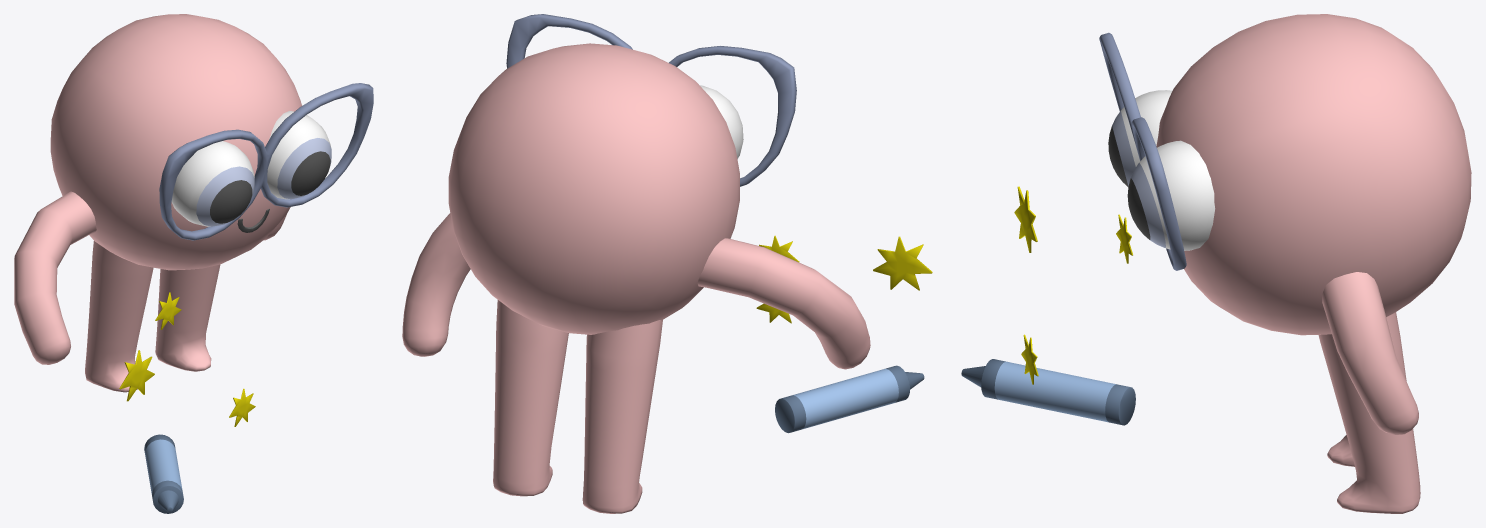
3 views of the same model, side by side, from view 1: azimuth 30°, elevation 25°; view 2: azimuth 150°, elevation 25°; view 3: azimuth 270°, elevation 25° (orthographic). The views are drawn at different scales.
Parts seen in each view (by area): view 1: pCube4, orangeLegs, r arm, pCylinder3, eyes-whiteMTL, eyes-blackMTL, eyes-blueMTL, crayon-Blue.1 (×2), star.1, star, star.2; view 2: pCube4, orangeLegs, r arm, l arm, pCylinder3, crayon-Blue.1 (×2), star.1, eyes-whiteMTL; view 3: pCube4, orangeLegs, l arm, crayon-Blue.1 (×2), eyes-whiteMTL, pCylinder3, eyes-blueMTL, eyes-blackMTL, star.1.
Boxes of the visible parts, bbox=[...] form: pCube4: bbox=[50, 14, 301, 270]; orangeLegs: bbox=[85, 241, 220, 392]; r arm: bbox=[14, 191, 96, 364]; pCylinder3: bbox=[159, 83, 373, 240]; eyes-whiteMTL: bbox=[171, 111, 331, 226]; eyes-blackMTL: bbox=[210, 151, 330, 223]; eyes-blueMTL: bbox=[196, 138, 331, 226]; crayon-Blue.1 (×2): bbox=[144, 434, 183, 513]; star.1: bbox=[119, 350, 154, 401]; star: bbox=[229, 388, 255, 426]; star.2: bbox=[155, 292, 181, 329]; pCube4: bbox=[448, 43, 739, 334]; orangeLegs: bbox=[493, 300, 662, 513]; r arm: bbox=[697, 238, 870, 369]; l arm: bbox=[402, 213, 470, 356]; pCylinder3: bbox=[506, 14, 796, 186]; crayon-Blue.1 (×2): bbox=[775, 365, 924, 433]; star.1: bbox=[873, 236, 932, 290]; eyes-whiteMTL: bbox=[700, 85, 743, 158]; pCube4: bbox=[1156, 14, 1471, 335]; orangeLegs: bbox=[1318, 312, 1420, 513]; l arm: bbox=[1322, 272, 1418, 434]; crayon-Blue.1 (×2): bbox=[961, 359, 1135, 425]; eyes-whiteMTL: bbox=[1121, 90, 1215, 250]; pCylinder3: bbox=[1099, 32, 1186, 270]; eyes-blueMTL: bbox=[1112, 111, 1165, 247]; eyes-blackMTL: bbox=[1108, 126, 1150, 239]; star.1: bbox=[1014, 186, 1037, 252].
Bounding box in the file's own units: 0.02 × 0.0208 × 0.0213.
